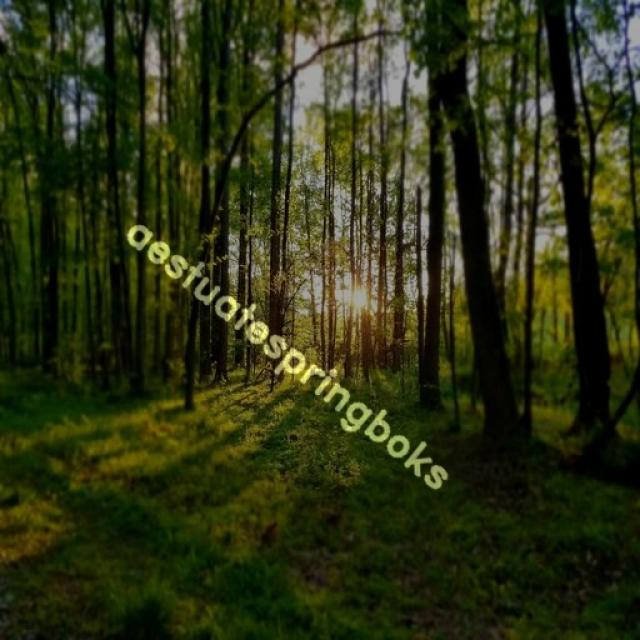watermark: (112, 205, 468, 500)
